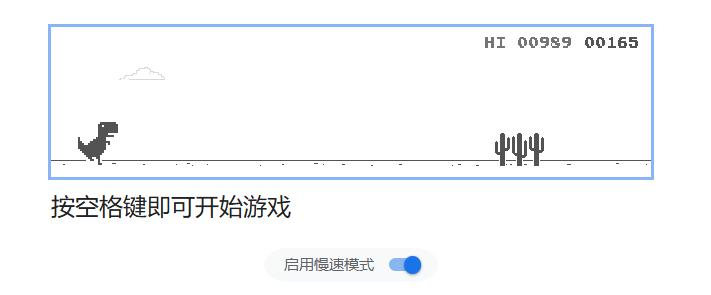cactus: (492, 131, 544, 167)
dino: (75, 120, 119, 166)
